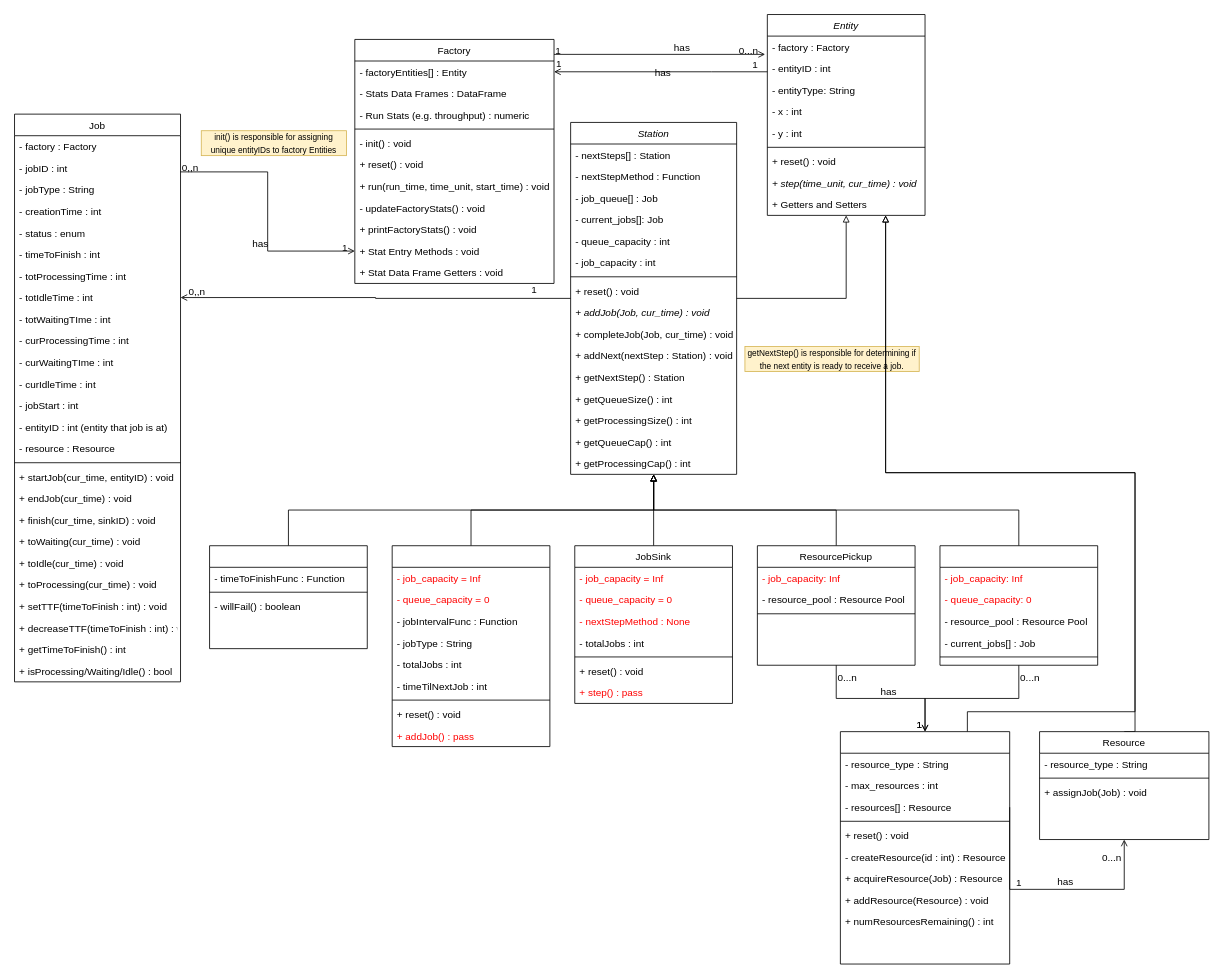
Image size: 1223x979. Some labels were removed from this diagram. The box of each missing label's shape, as (x1, y1, x2, y2) in pixels:
JobSource: (391, 545, 550, 747)
Machine: (209, 545, 367, 649)
Resource Pool: (840, 731, 1010, 964)
ResourceDrop: (939, 545, 1098, 665)
